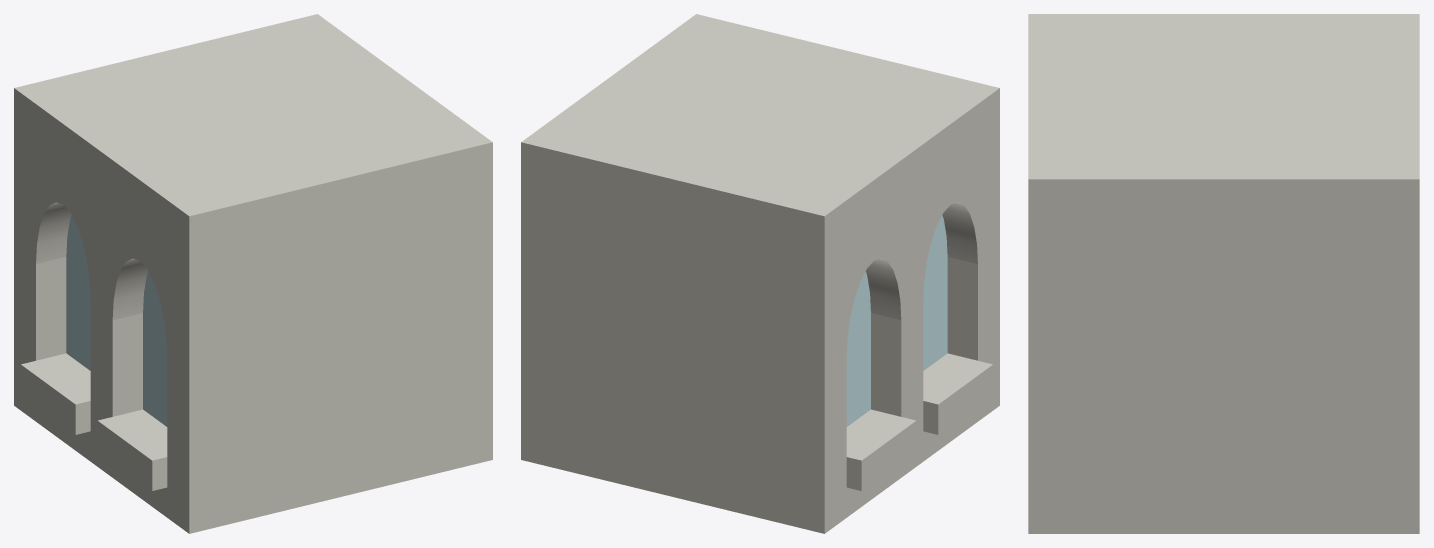
File: Building Story 10.fbx
3 renders of one model, left to right at view 1: azimuth 30°, elevation 25°; view 2: azimuth 150°, elevation 25°; view 3: azimuth 270°, elevation 25°, orthographic. The views are drawn at different scales.
Visible parts, largest first — view 1: Building Story 10; view 2: Building Story 10; view 3: Building Story 10.
Boxes of the visible parts, x1=… form: Building Story 10: x1=14, y1=14, x2=492, y2=533; Building Story 10: x1=521, y1=14, x2=999, y2=533; Building Story 10: x1=1028, y1=14, x2=1419, y2=533.
Size of the model in its own units: 1.05 by 1 by 1.
